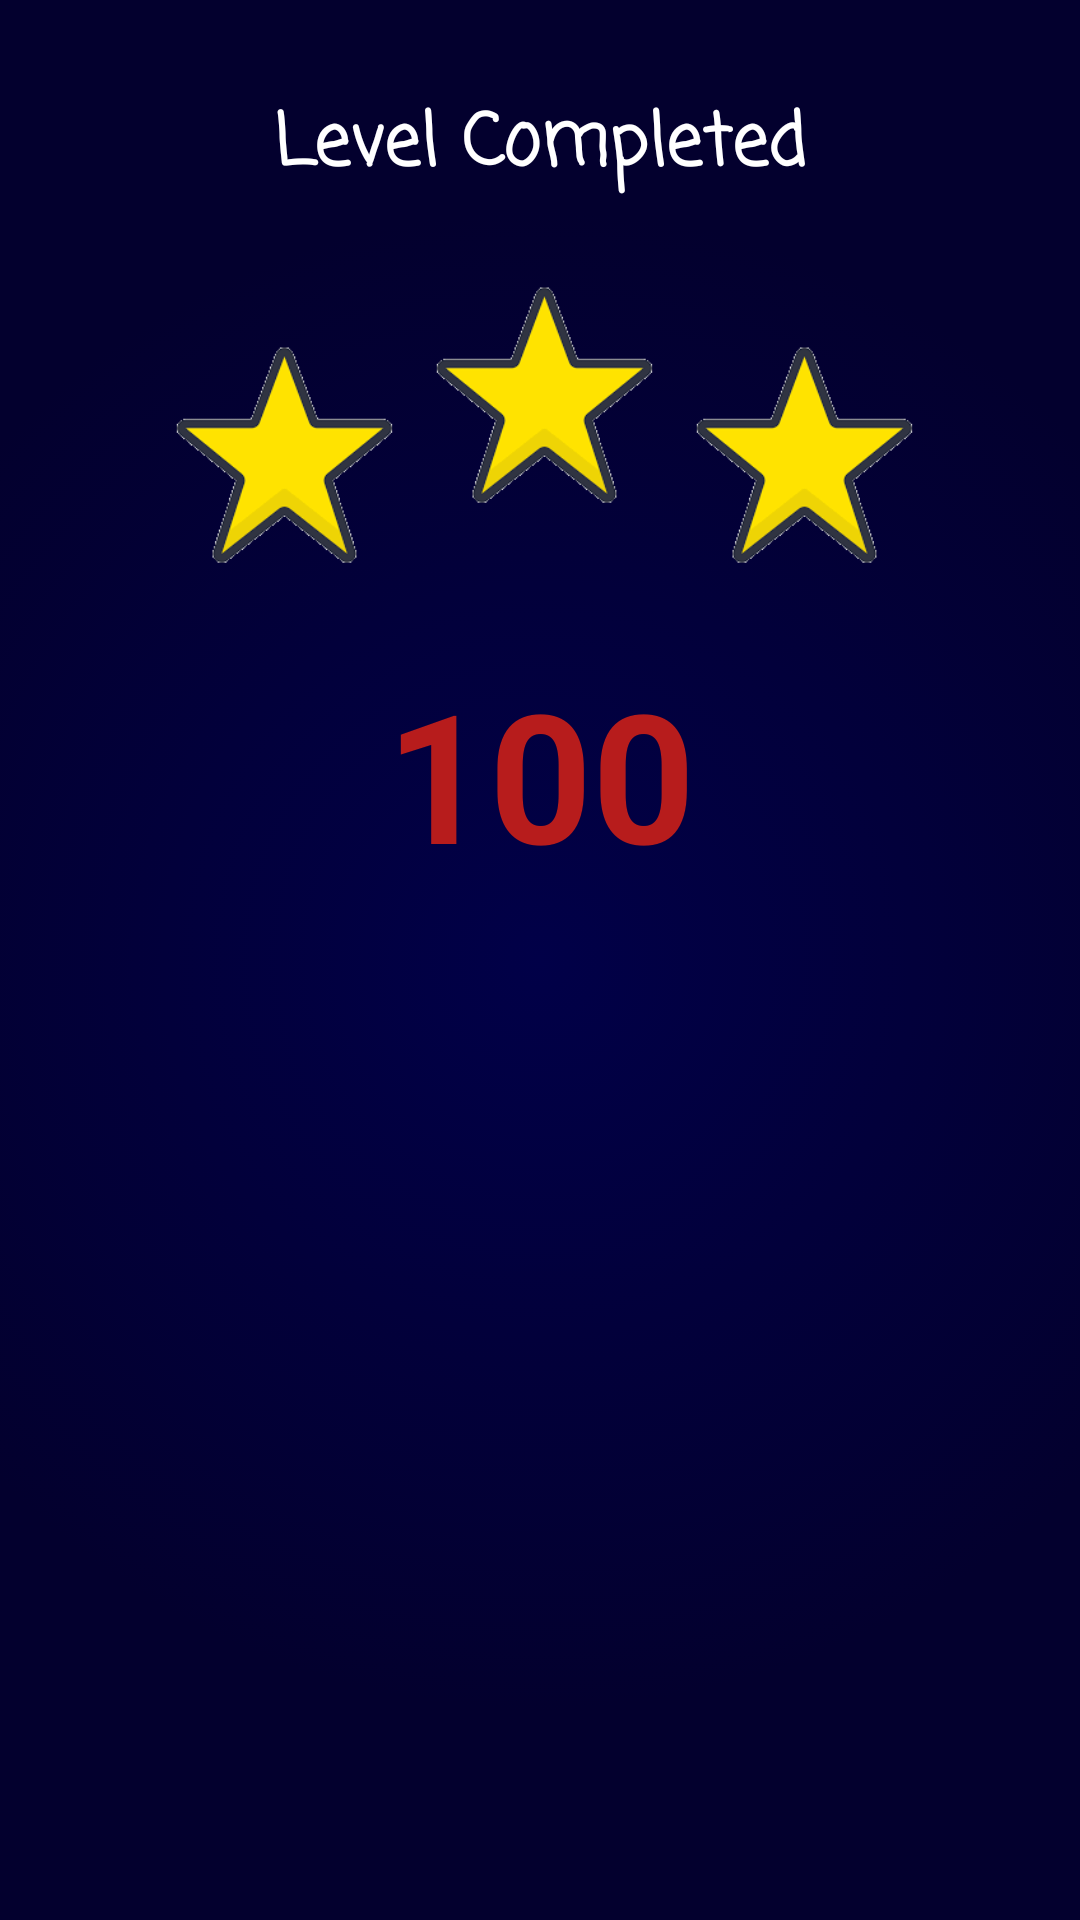

Screen size 1080x1920. Icon name, then its center in pixels as (x=x, y=y):
star: (x=544, y=395), (x=284, y=455), (x=804, y=455)
